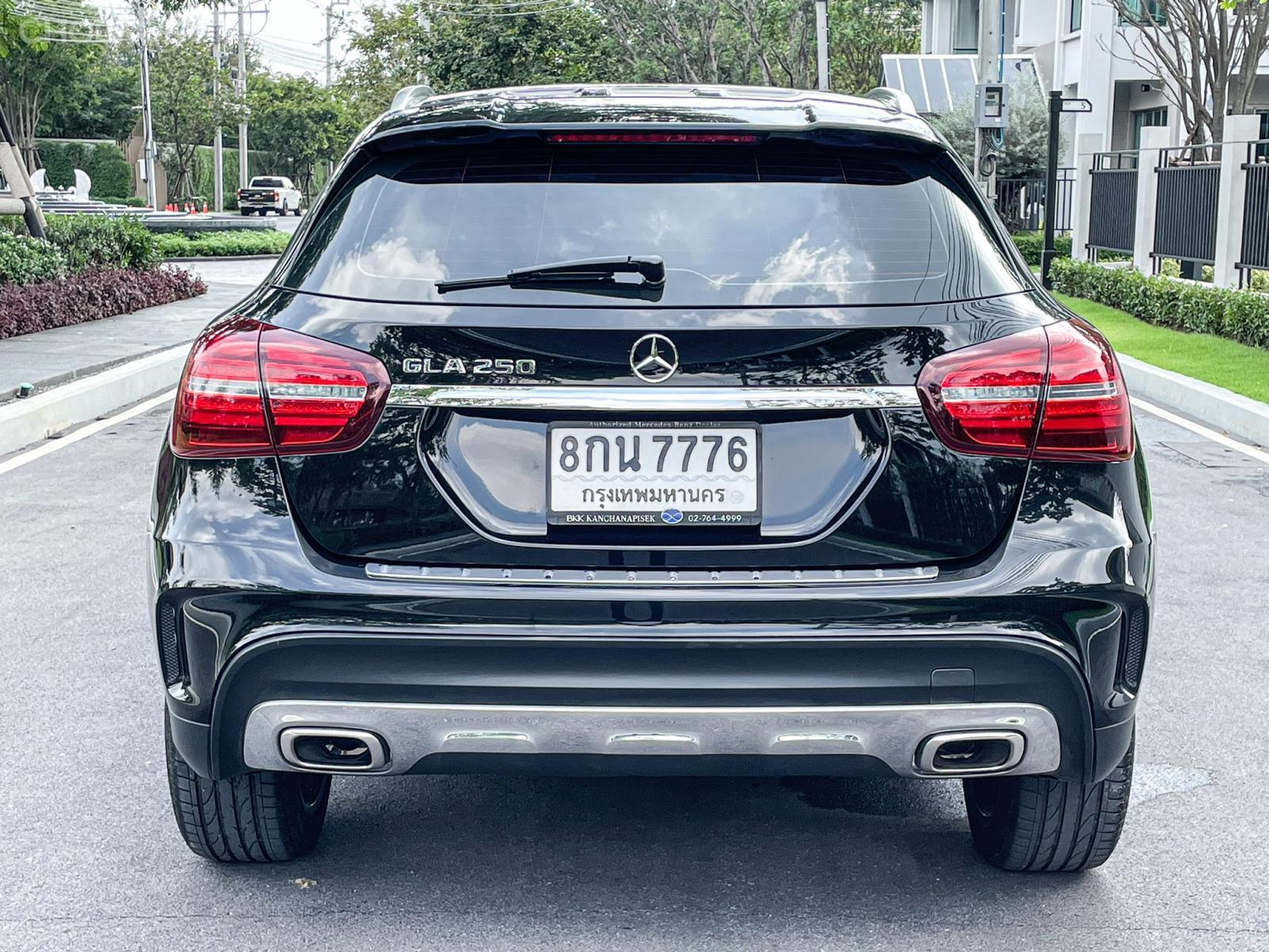license-plate: (545, 416, 767, 530)
